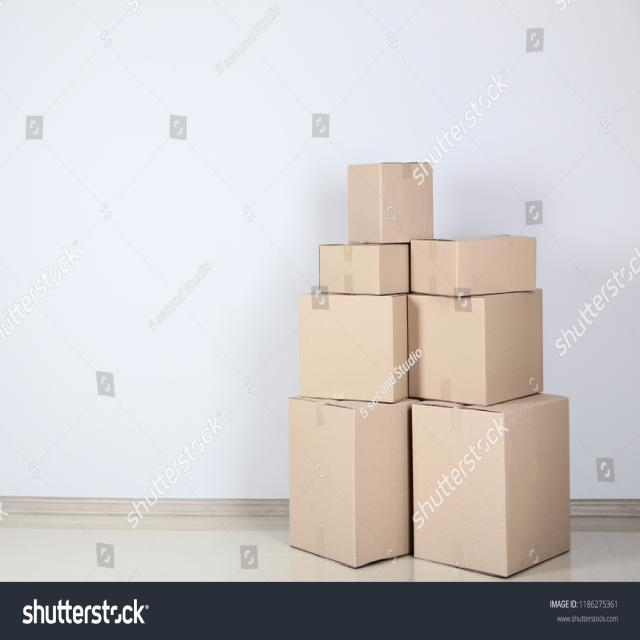BoxFace: (412, 404, 508, 577), (288, 394, 357, 566), (299, 292, 393, 402), (408, 294, 485, 406), (317, 243, 379, 296), (348, 162, 383, 244), (410, 238, 458, 296)
